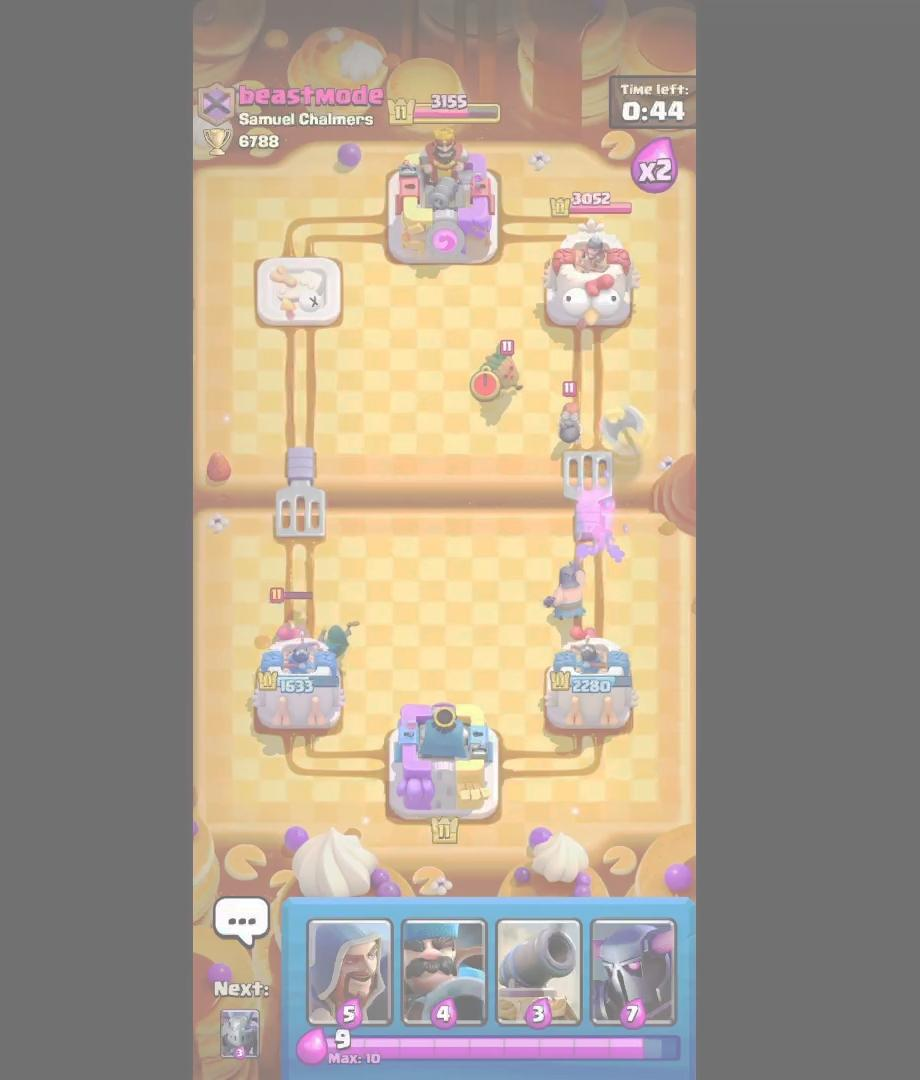Bomber: (550, 381, 589, 451)
Dart Goblin: (474, 333, 529, 402)
Hog Rider: (266, 584, 320, 657)
